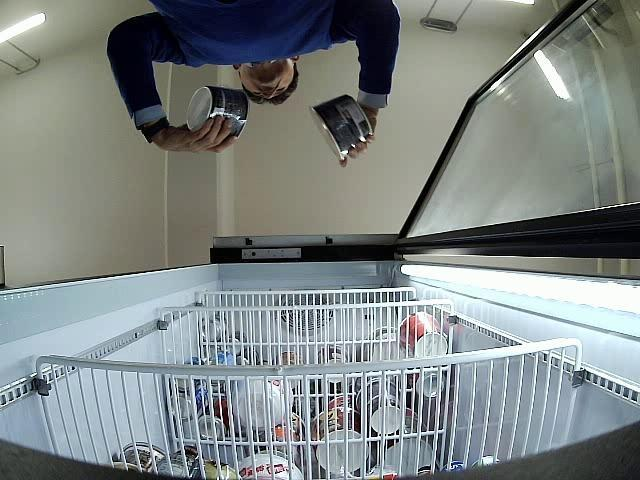07_buldak_L: (311, 94, 374, 159), (187, 87, 249, 137)
